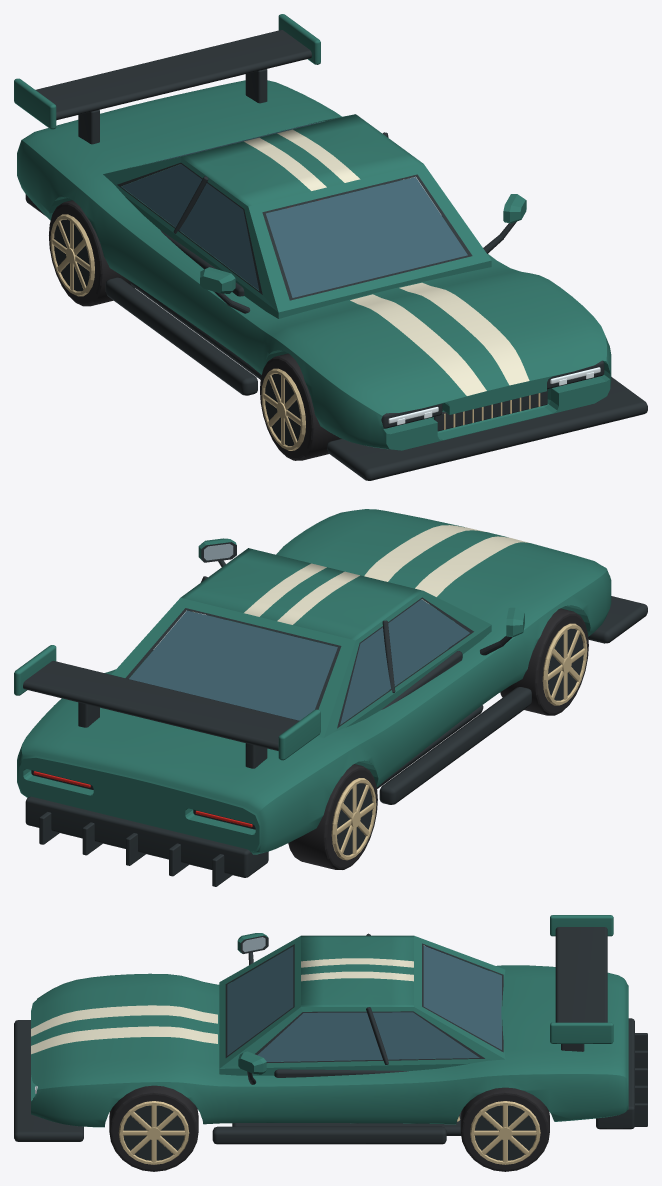
The model's file is VEH_V8_Muscle_GT.glb.
The picture shows the model from 3 angles, top to bottom: view 1: azimuth 30°, elevation 25°; view 2: azimuth 150°, elevation 25°; view 3: azimuth 270°, elevation 25°; orthographic projection. The views are drawn at different scales.
Parts seen in each view (by area): view 1: GT_sculpted_body, Glass_windscreen, Continuous_roof_panel, Rear_wing, Front_splitter, Glass_left, Integrated_windscreen_surround, Side_skirt, Integrated_left_surround, Tyre, Tyre.001, Gasket_windscreen (+14 smaller); view 2: GT_sculpted_body, Glass_rear, Continuous_roof_panel, Rear_wing, Glass_left, Rear_diffuser, Side_skirt, Integrated_rear_surround, Tyre.001, Integrated_left_surround, Tyre, Front_splitter (+11 smaller); view 3: GT_sculpted_body, Continuous_roof_panel, Glass_right, Glass_rear, Rear_wing, Glass_windscreen, Side_skirt.001, Front_splitter, Integrated_right_surround, Tyre.002, Tyre.003, Integrated_windscreen_surround (+15 smaller).
Part boxes in pixels (box(x1,y1,x2,y2)): GT_sculpted_body: box(17, 80, 611, 450); Glass_windscreen: box(266, 177, 467, 297); Continuous_roof_panel: box(181, 114, 423, 206); Rear_wing: box(36, 30, 311, 120); Front_splitter: box(327, 377, 647, 480); Glass_left: box(121, 164, 259, 290); Integrated_windscreen_surround: box(248, 164, 491, 312); Side_skirt: box(105, 277, 257, 395); Integrated_left_surround: box(103, 157, 278, 311); Tyre: box(260, 353, 340, 460); Tyre.001: box(49, 200, 134, 306); Gasket_windscreen: box(262, 174, 472, 300); GT_sculpted_body: box(17, 509, 611, 854); Glass_rear: box(129, 610, 337, 720); Continuous_roof_panel: box(181, 548, 423, 640); Rear_wing: box(23, 661, 299, 750); Glass_left: box(340, 599, 469, 724); Rear_diffuser: box(25, 796, 268, 877); Side_skirt: box(379, 687, 531, 804); Integrated_rear_surround: box(111, 597, 355, 737); Tyre.001: box(288, 764, 377, 869); Integrated_left_surround: box(324, 591, 491, 737); Tyre: box(500, 608, 588, 715); Front_splitter: box(588, 596, 647, 643); GT_sculpted_body: box(31, 965, 628, 1127); Continuous_roof_panel: box(301, 935, 413, 1006); Glass_right: box(257, 1012, 479, 1061); Glass_rear: box(423, 945, 501, 1049); Rear_wing: box(555, 927, 607, 1022); Glass_windscreen: box(227, 946, 293, 1055); Side_skirt.001: box(212, 1126, 446, 1144); Front_splitter: box(14, 1020, 83, 1141); Integrated_right_surround: box(219, 1007, 504, 1068); Tyre.002: box(109, 1085, 198, 1171); Tyre.003: box(460, 1087, 549, 1171); Integrated_windscreen_surround: box(219, 936, 300, 1068).
Size of the model in its own units: 2.33 by 1.23 by 4.75.
